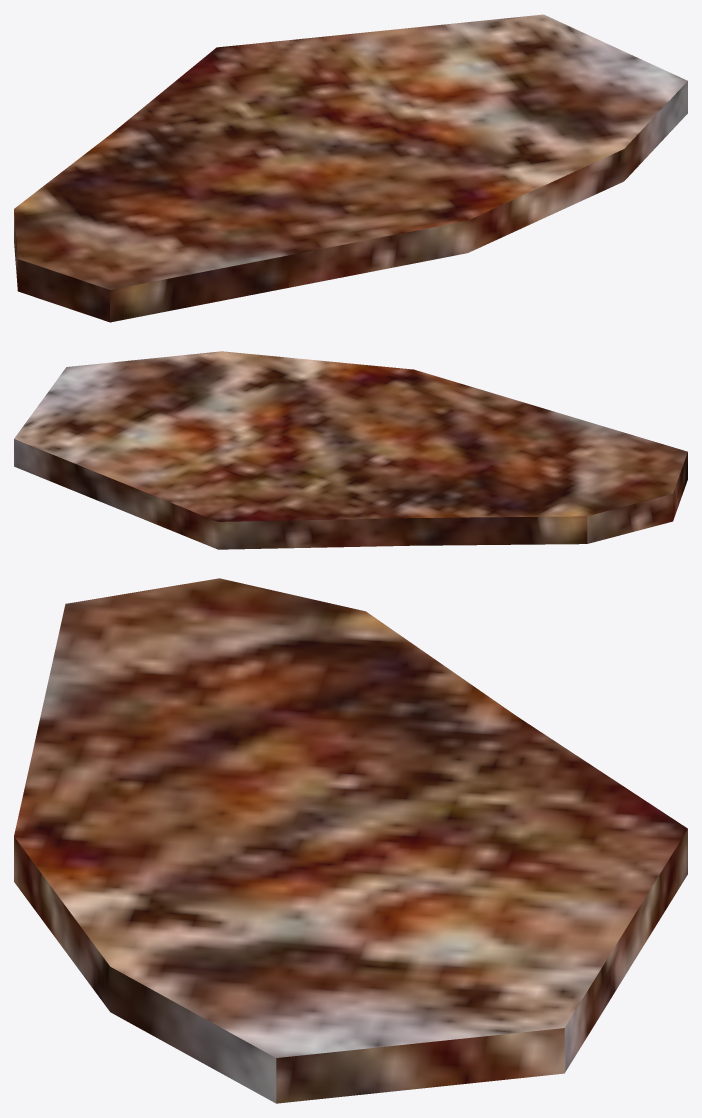
Rendered from Roast_meat_03-col.glb.
The picture shows the model from 3 angles, top to bottom: view 1: azimuth 30°, elevation 25°; view 2: azimuth 150°, elevation 25°; view 3: azimuth 270°, elevation 25°; orthographic projection. The views are drawn at different scales.
Parts seen in each view (by area): view 1: Roast_meat_03-col; view 2: Roast_meat_03-col; view 3: Roast_meat_03-col.
Part boxes in pixels (x1,y1,x2,y2): Roast_meat_03-col: (14, 14, 687, 322); Roast_meat_03-col: (14, 351, 687, 549); Roast_meat_03-col: (14, 578, 687, 1103).
Bounding box in the file's own units: 0.3782 × 0.0197 × 0.228.
1 material, 1 textured.
